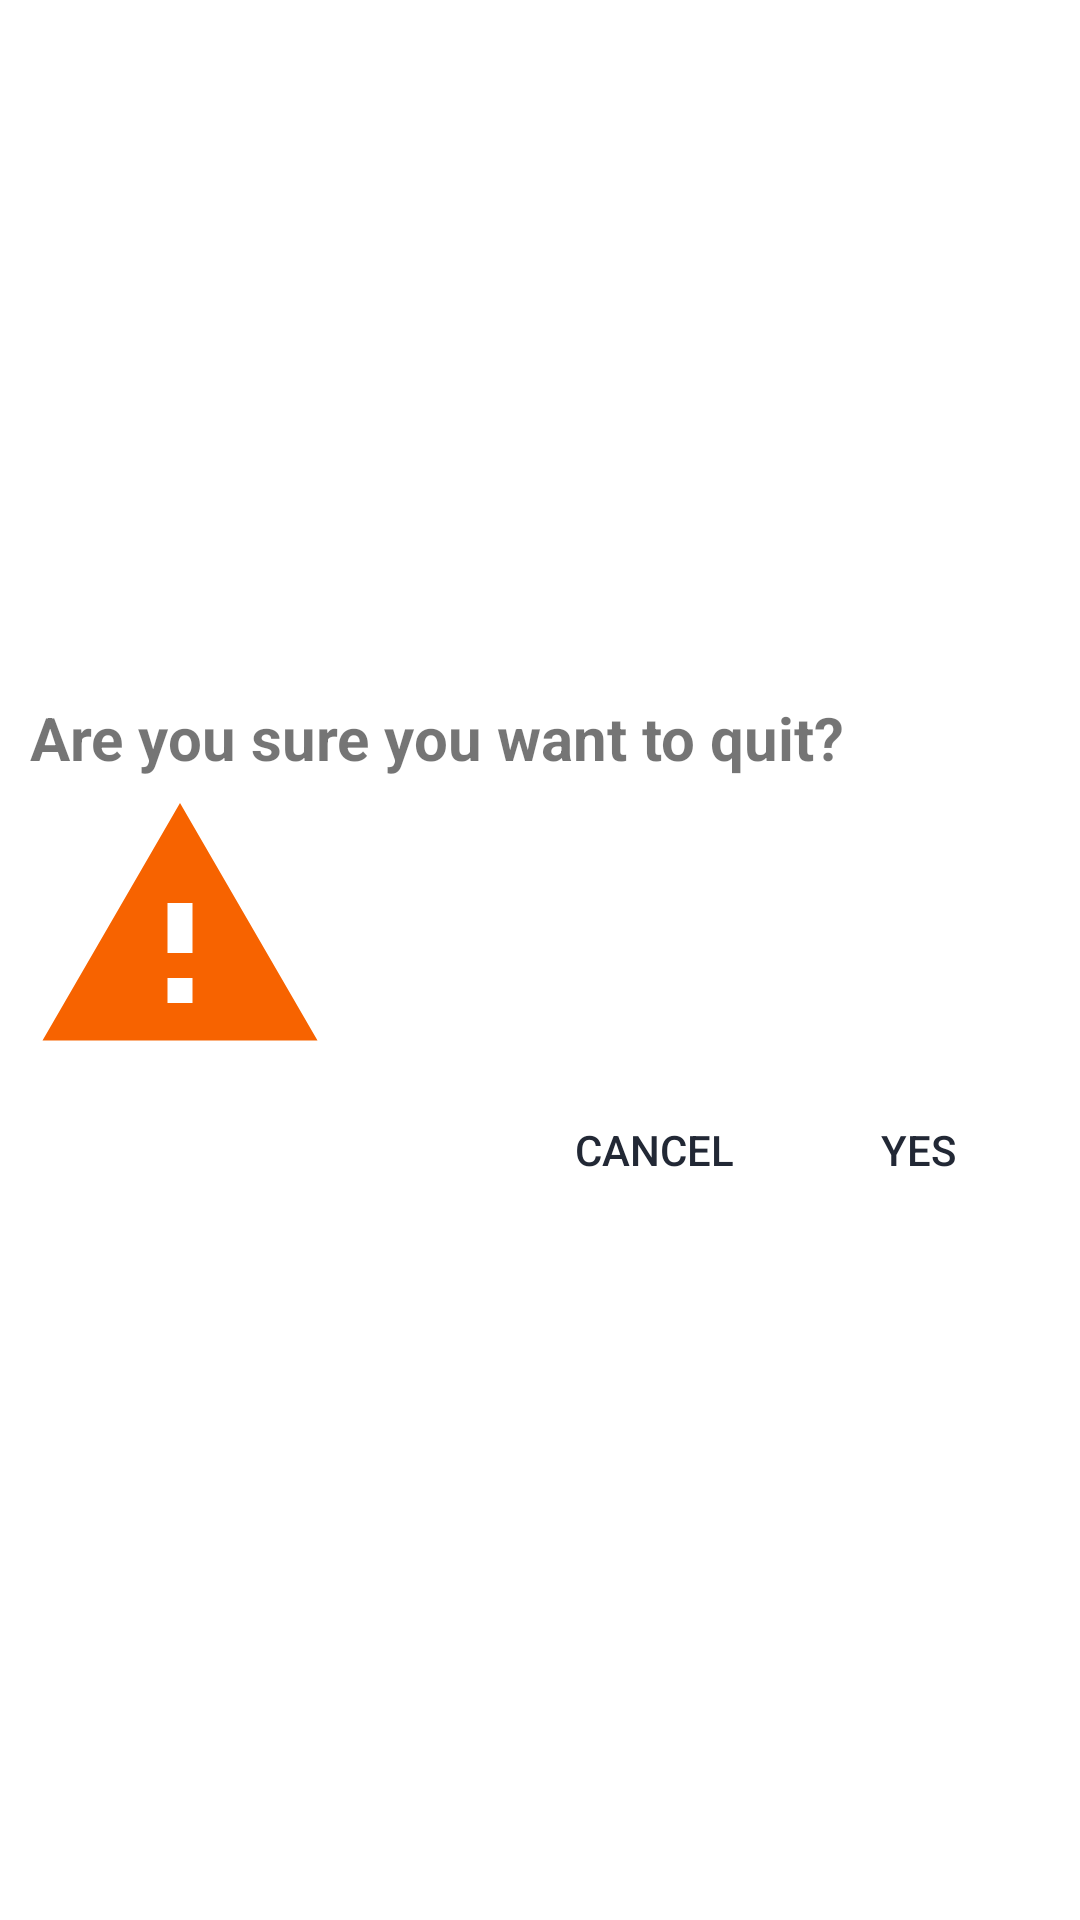

Screen size 1080w x 1920h. Icon name, then its center in pixels as (x,y):
warning: (180,922)
